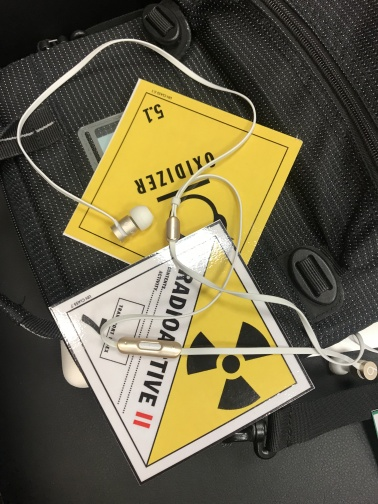Oxidizer: (63, 78, 300, 266)
Radioactive: (50, 220, 314, 483)
